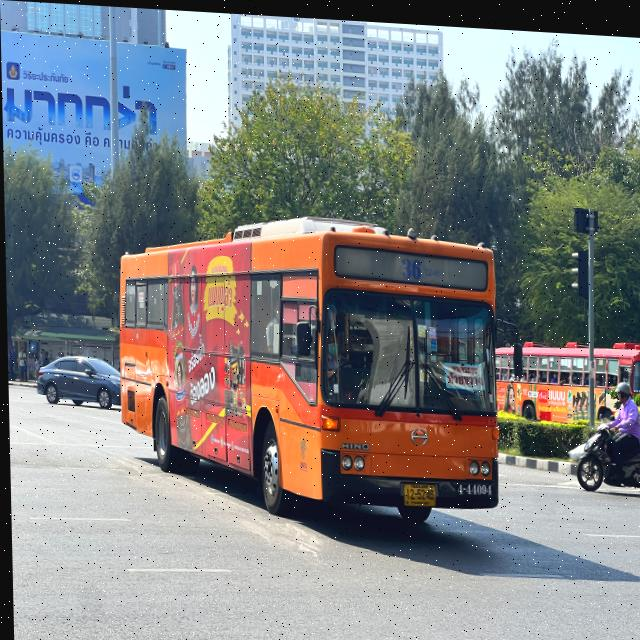BMTA-bus: (114, 206, 501, 526)
Bus-Line-Number: (396, 251, 446, 278)
Destination-Sign-Extra-Bus: (441, 355, 485, 387)
